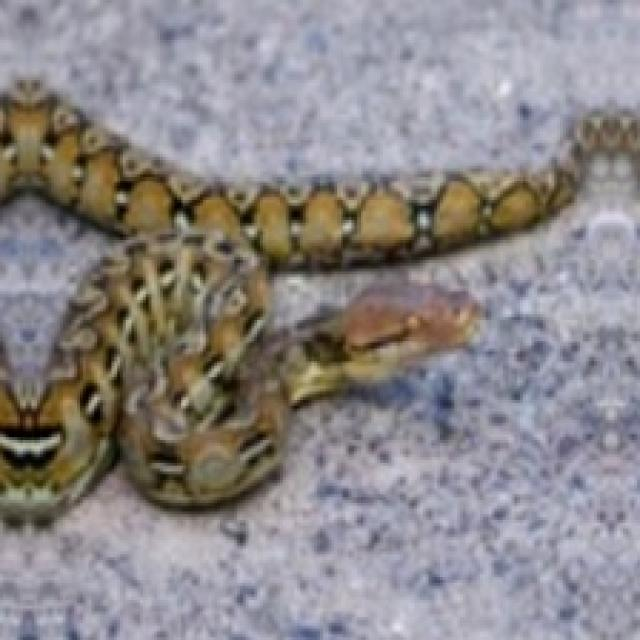reticulated python: (0, 80, 637, 520)
